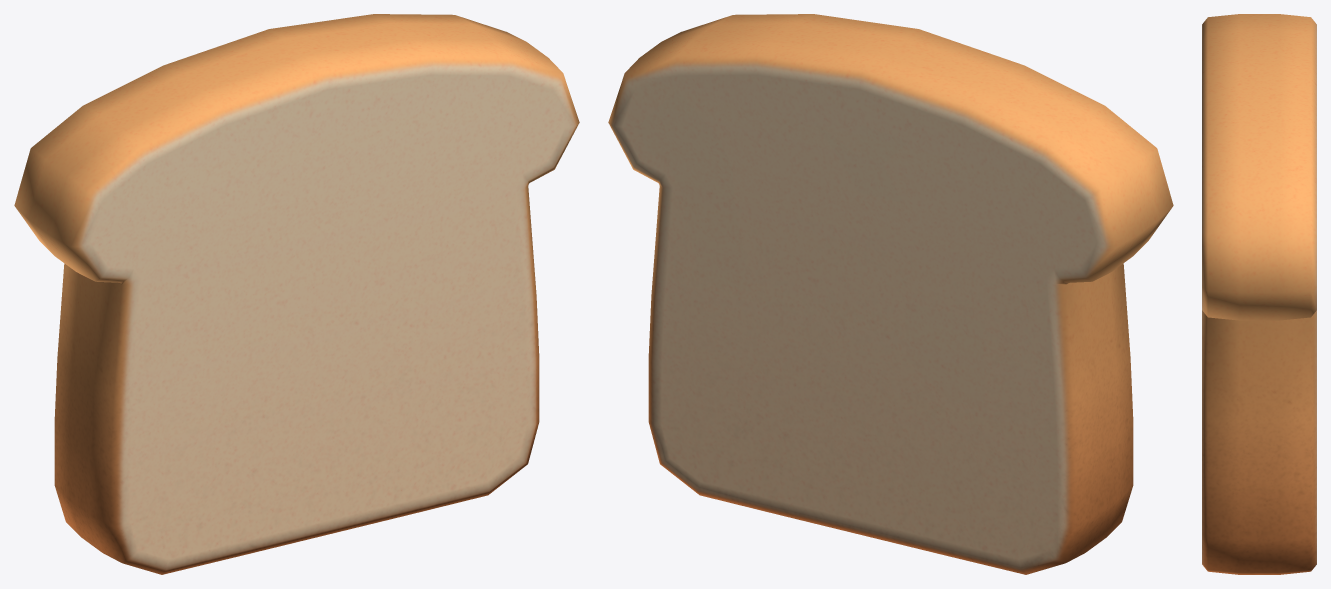
Rendered from pastries7.fbx.
3 views of the same model, side by side, from view 1: azimuth 30°, elevation 25°; view 2: azimuth 150°, elevation 25°; view 3: azimuth 270°, elevation 25° (orthographic). The views are drawn at different scales.
Parts seen in each view (by area): view 1: pastries7; view 2: pastries7; view 3: pastries7.
Part boxes in pixels (x1=…): pastries7: x1=14, y1=14, x2=579, y2=574; pastries7: x1=608, y1=14, x2=1173, y2=574; pastries7: x1=1202, y1=14, x2=1316, y2=574.
Bounding box in the file's own units: 8420 × 7366 × 1772.
Materials: 1 (1 with a texture image).
